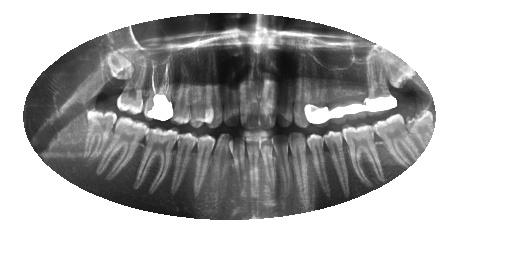i10decay: (229, 135, 245, 195)
i11healthy: (213, 133, 232, 195)
i12healthy: (191, 135, 217, 195)
i13healthy: (170, 130, 198, 193)
i14healthy: (132, 128, 179, 195)
i15healthy: (96, 119, 149, 183)
i16healthy: (81, 110, 117, 159)
i1healthy: (406, 107, 437, 151)
i2healthy: (377, 111, 412, 176)
i3healthy: (348, 122, 376, 195)
i4healthy: (328, 130, 348, 198)
i5healthy: (308, 133, 327, 197)
i6decay: (291, 131, 309, 202)
i7decay: (276, 133, 290, 196)
i8healthy: (261, 134, 273, 194)
i9healthy: (244, 133, 259, 196)
u10loss: (222, 70, 240, 131)
u11decay: (206, 70, 223, 130)
u12healthy: (191, 68, 211, 127)
u13healthy: (173, 65, 190, 123)
u14healthy: (144, 62, 173, 121)
u15healthy: (118, 58, 143, 112)
u16healthy: (100, 45, 141, 85)
u1healthy: (379, 47, 424, 89)
u2healthy: (366, 55, 398, 113)
u3healthy: (347, 78, 368, 117)
u4healthy: (331, 76, 349, 125)
u5healthy: (303, 77, 331, 126)
u6healthy: (296, 74, 309, 130)
u7loss: (277, 72, 297, 129)
u8decay: (259, 72, 277, 127)
u9decay: (240, 72, 259, 130)
